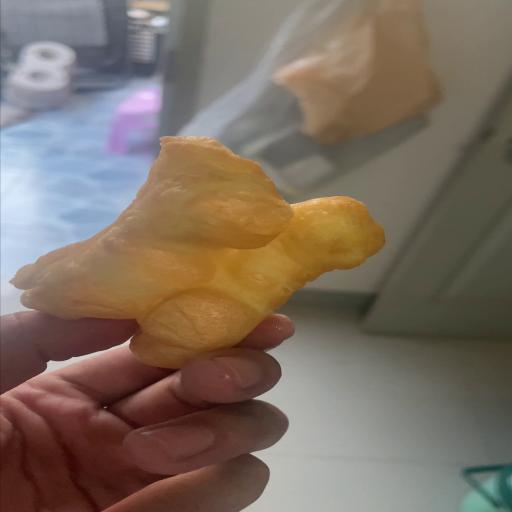street_golden_good: (10, 138, 384, 366)
